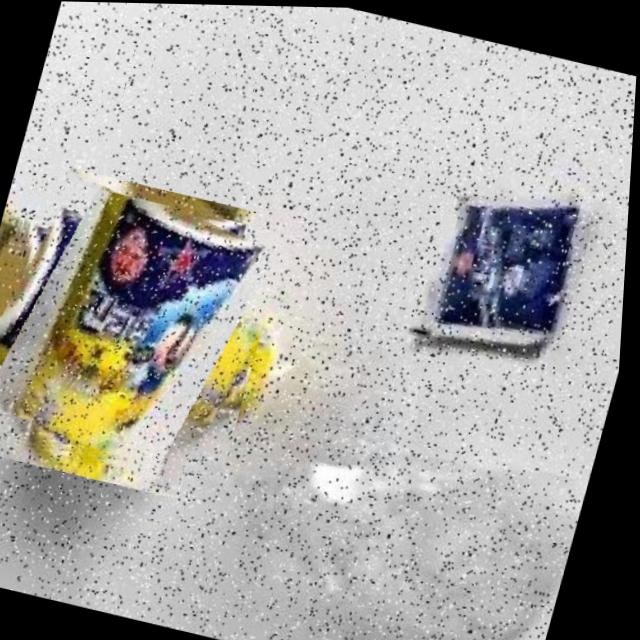Miscellaneous: (0, 170, 293, 492)
